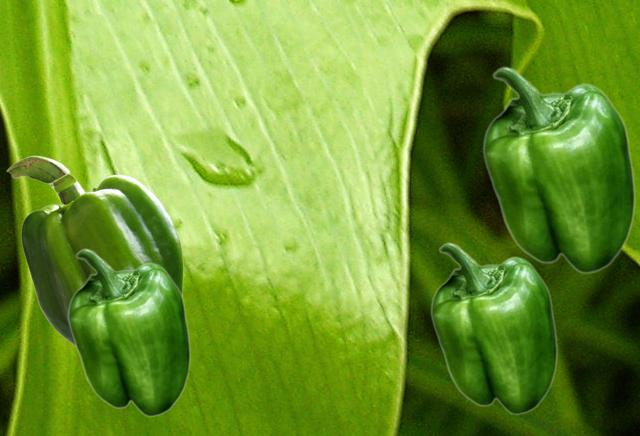bell_pepper: (6, 155, 182, 345), (482, 66, 635, 273), (430, 242, 557, 414), (67, 248, 190, 416)
